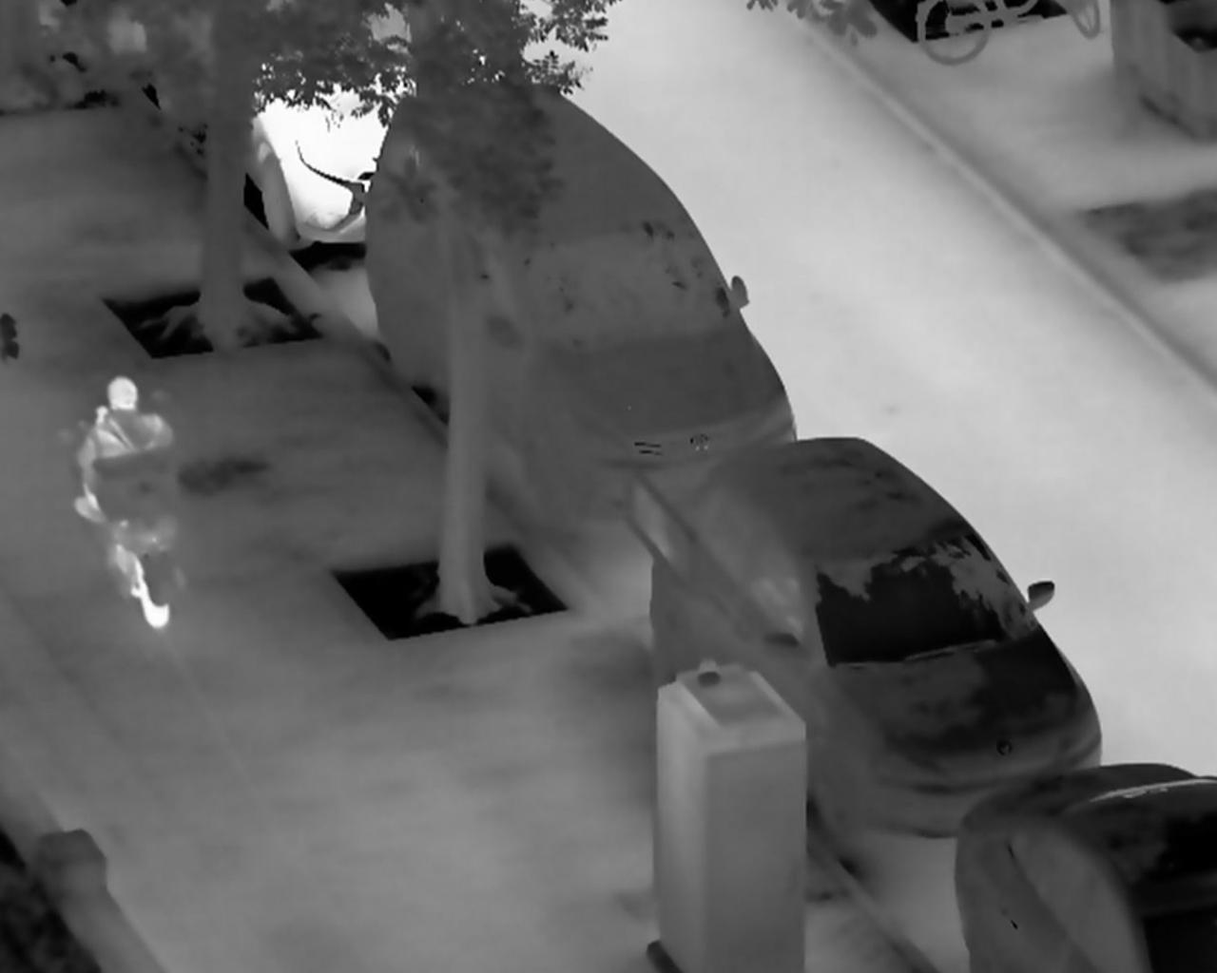person: (67, 374, 179, 559)
